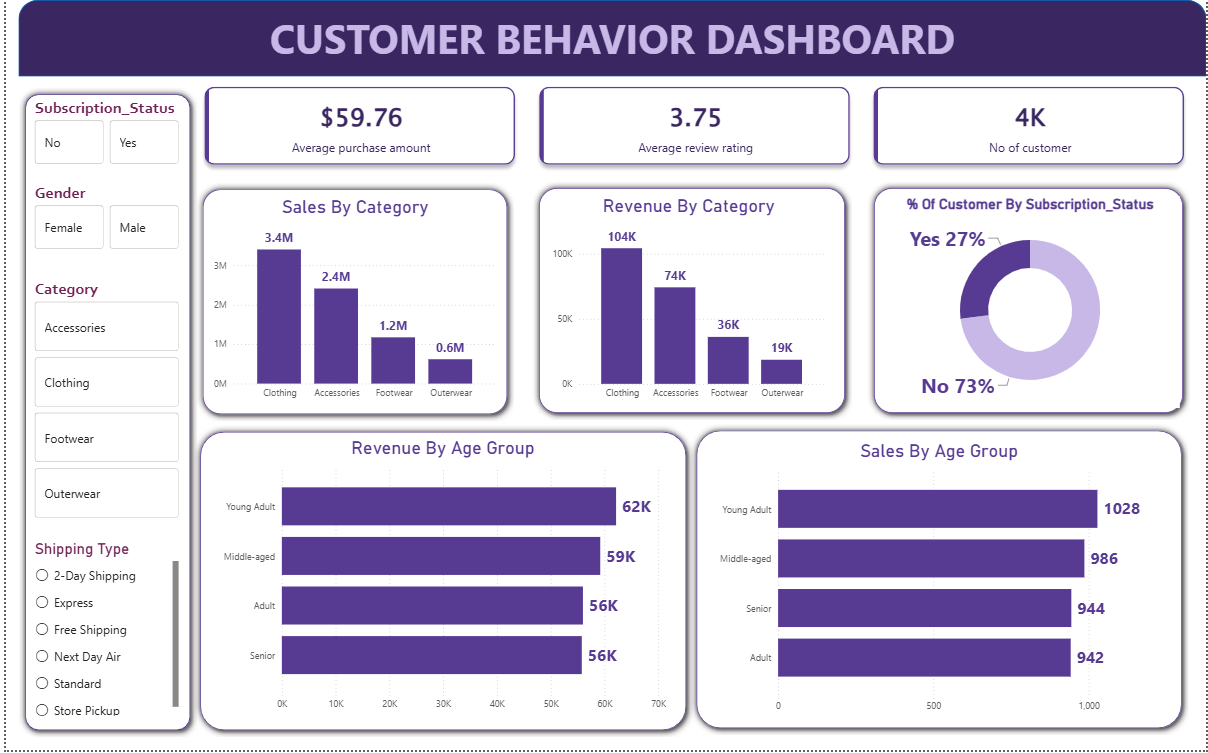

Layout of this report page (visuals, bound fields, positions):
{"tool":"powerbi","page":{"name":"Customer Behavior Dashboard","canvas":[1600,1000],"ordinal":0},"visuals":[{"type":"cardVisual","fields":{"Data":["public customer_behavior.Average purchase amount","public customer_behavior.Average review rating","public customer_behavior.No of customer"]},"box":[236,92,1364,152],"z":0},{"type":"shape","box":[16,0,1584,102],"z":1000},{"type":"textbox","box":[66,10,1484,82],"z":2000},{"type":"shape","box":[702,242,426,318],"z":3000},{"type":"shape","box":[1148,242,430,318],"z":4000},{"type":"clusteredColumnChart","title":"Revenue By Category","fields":{"Category":["public customer_behavior.category"],"Y":["Sum(public customer_behavior.purchase_amount)"]},"box":[724,260,374,282],"z":5000},{"type":"donutChart","title":"% Of Customer By Subscription_Status","fields":{"Category":["public customer_behavior.subscription_status"],"Y":["CountNonNull(public customer_behavior.customer_id)"]},"box":[1166,262,398,282],"z":6000},{"type":"shape","box":[16,116,238,866],"z":7000},{"type":"shape","box":[254,244,424,318],"z":8000},{"type":"clusteredColumnChart","title":"Sales By Category","fields":{"Category":["public customer_behavior.category"],"Y":["Sum(public customer_behavior.customer_id)"]},"box":[272,262,388,280],"z":9000},{"type":"advancedSlicerVisual","title":" Subscription_Status","fields":{"Values":["public customer_behavior.subscription_status"]},"box":[34,130,202,94],"z":10000},{"type":"advancedSlicerVisual","title":"Gender","fields":{"Values":["public customer_behavior.gender"]},"box":[34,244,202,94],"z":11000},{"type":"advancedSlicerVisual","title":"Category","fields":{"Values":["public customer_behavior.category"]},"box":[34,372,202,324],"z":12000},{"type":"listSlicer","title":"Shipping Type","fields":{"Values":["public customer_behavior.shipping_type"]},"box":[34,720,202,240],"z":13000},{"type":"shape","box":[250,566,666,416],"z":14000},{"type":"clusteredBarChart","title":"Revenue By Age Group","fields":{"Category":["public customer_behavior.age_group"],"Y":["Sum(public customer_behavior.purchase_amount)"]},"box":[280,583.3,605,373.3],"z":15000},{"type":"shape","box":[911.7,565,665,415],"z":16000},{"type":"clusteredBarChart","title":"Sales By Age Group","fields":{"Category":["public customer_behavior.age_group"],"Y":["CountNonNull(public customer_behavior.customer_id)"]},"box":[941.7,586.7,605,373.3],"z":17000}]}

Visuals, with their boxes in screenshot pixels (x1, y1, x2, y2), scaled from the page's 1600x1000 canvas onto the 1208x753 screenshot:
cardVisual - public customer_behavior.Average purchase amount x public customer_behavior.Average review rating: [x1=178, y1=69, x2=1207, y2=184]
shape: [x1=12, y1=0, x2=1207, y2=77]
textbox: [x1=50, y1=8, x2=1170, y2=69]
shape: [x1=530, y1=182, x2=852, y2=422]
shape: [x1=867, y1=182, x2=1191, y2=422]
"Revenue By Category" clusteredColumnChart: [x1=547, y1=196, x2=829, y2=408]
"% Of Customer By Subscription_Status" donutChart: [x1=880, y1=197, x2=1181, y2=410]
shape: [x1=12, y1=87, x2=192, y2=739]
shape: [x1=192, y1=184, x2=512, y2=423]
"Sales By Category" clusteredColumnChart: [x1=205, y1=197, x2=498, y2=408]
" Subscription_Status" advancedSlicerVisual: [x1=26, y1=98, x2=178, y2=169]
"Gender" advancedSlicerVisual: [x1=26, y1=184, x2=178, y2=255]
"Category" advancedSlicerVisual: [x1=26, y1=280, x2=178, y2=524]
"Shipping Type" listSlicer: [x1=26, y1=542, x2=178, y2=723]
shape: [x1=189, y1=426, x2=692, y2=739]
"Revenue By Age Group" clusteredBarChart: [x1=211, y1=439, x2=668, y2=720]
shape: [x1=688, y1=425, x2=1190, y2=738]
"Sales By Age Group" clusteredBarChart: [x1=711, y1=442, x2=1168, y2=723]
